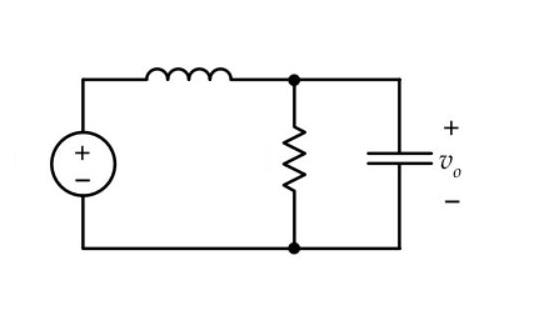resistor: (264, 112, 322, 215)
